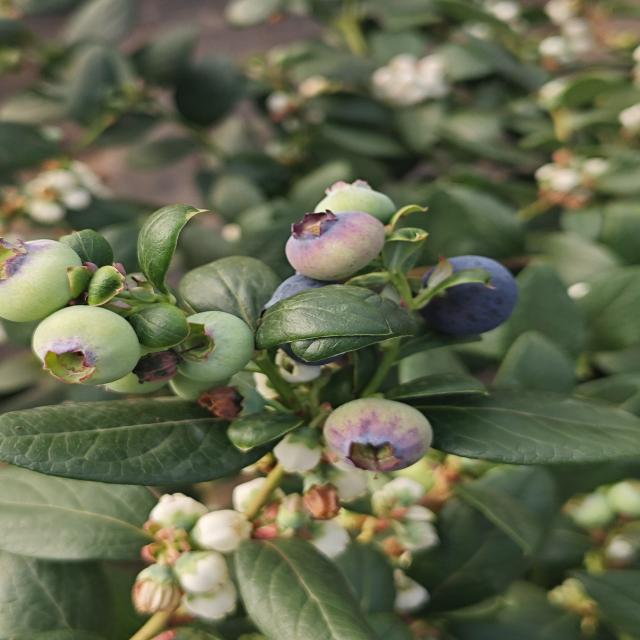ripe: (262, 272, 356, 364), (423, 254, 520, 338)
